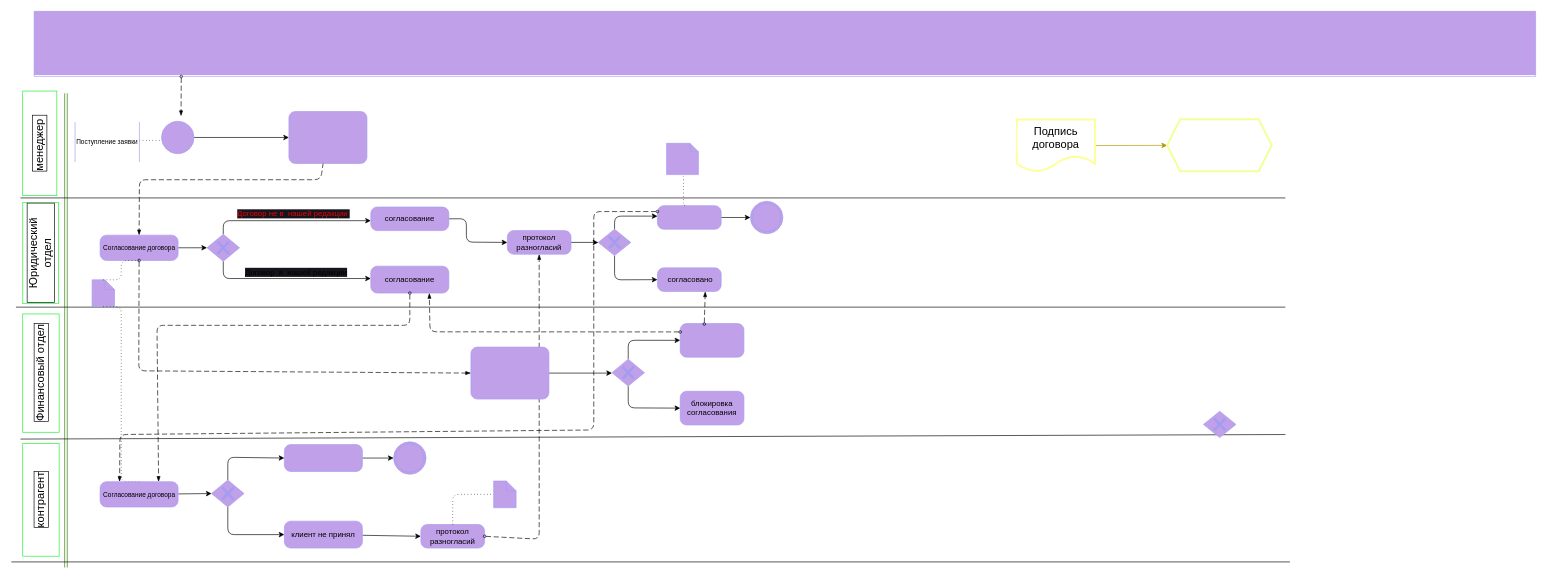
Some shapes in this 1547 by 579 pixel diagram are drawn without their labels. The shapes that lost their labels are listed below. From the top down, each one's centre as x and y in pixels, then its label:
the point at 784,43: Клиент
the point at 327,137: фиксирование запроса в CRM
the point at 1219,145: Внесение договора в систему
the point at 689,217: не согласовано
the point at 712,340: отправка согласованной формы
the point at 509,372: проверка контрагента
the point at 323,458: клиент принял
